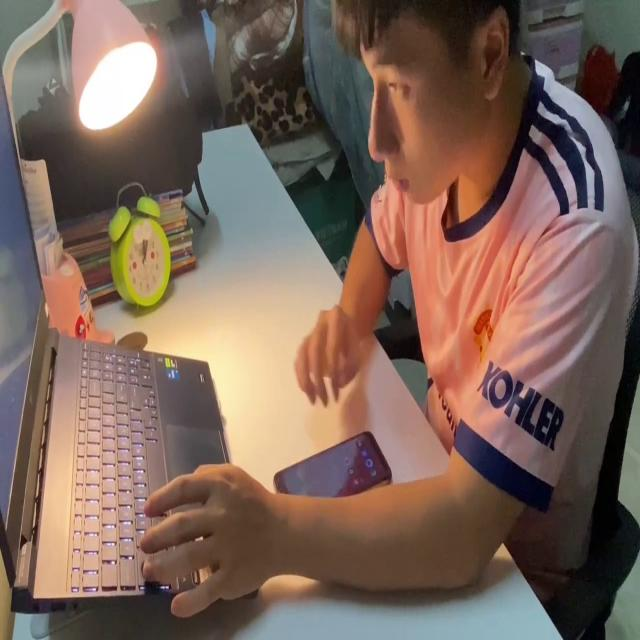laptop: (0, 56, 259, 616)
phone: (264, 424, 394, 499)
student: (135, 0, 640, 640)
